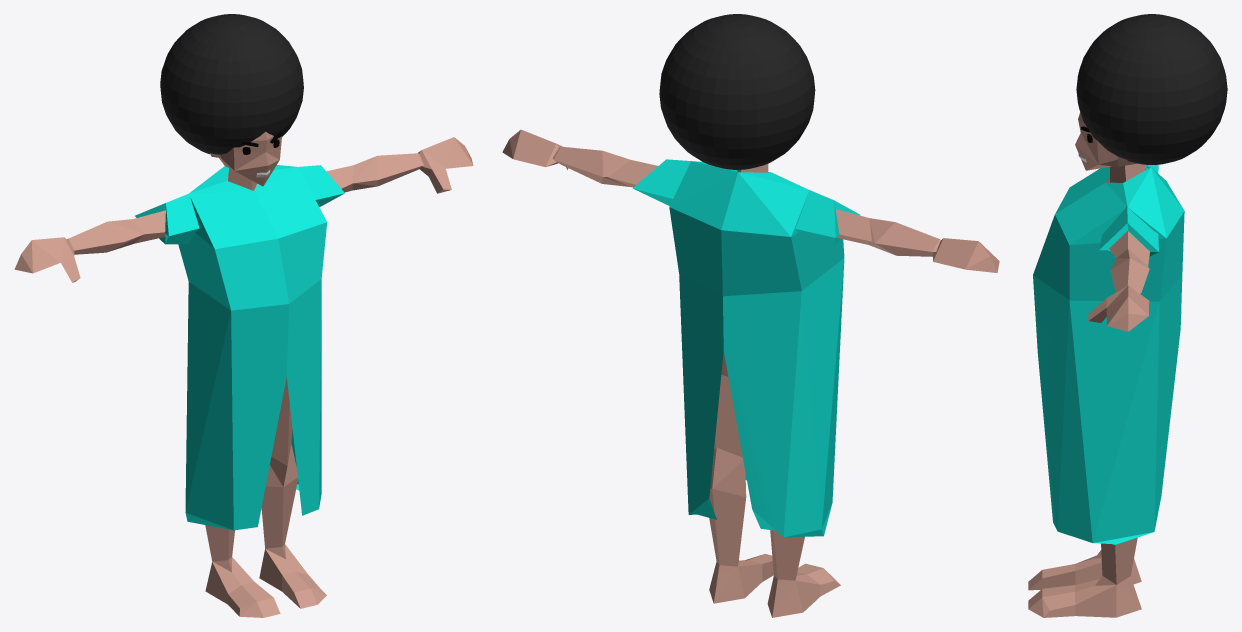
The model's file is Gordao_Cobaia.fbx.
3 views of the same model, side by side, from view 1: azimuth 30°, elevation 25°; view 2: azimuth 150°, elevation 25°; view 3: azimuth 270°, elevation 25° (orthographic). The views are drawn at different scales.
Visible parts, largest first — view 1: Gordo_Full; view 2: Gordo_Full; view 3: Gordo_Full.
Part boxes in pixels (x1,y1,x2,y2): Gordo_Full: (14, 14, 473, 617); Gordo_Full: (502, 14, 999, 617); Gordo_Full: (1028, 14, 1227, 617).
Bounding box in the file's own units: 3565 × 4081 × 1283.
